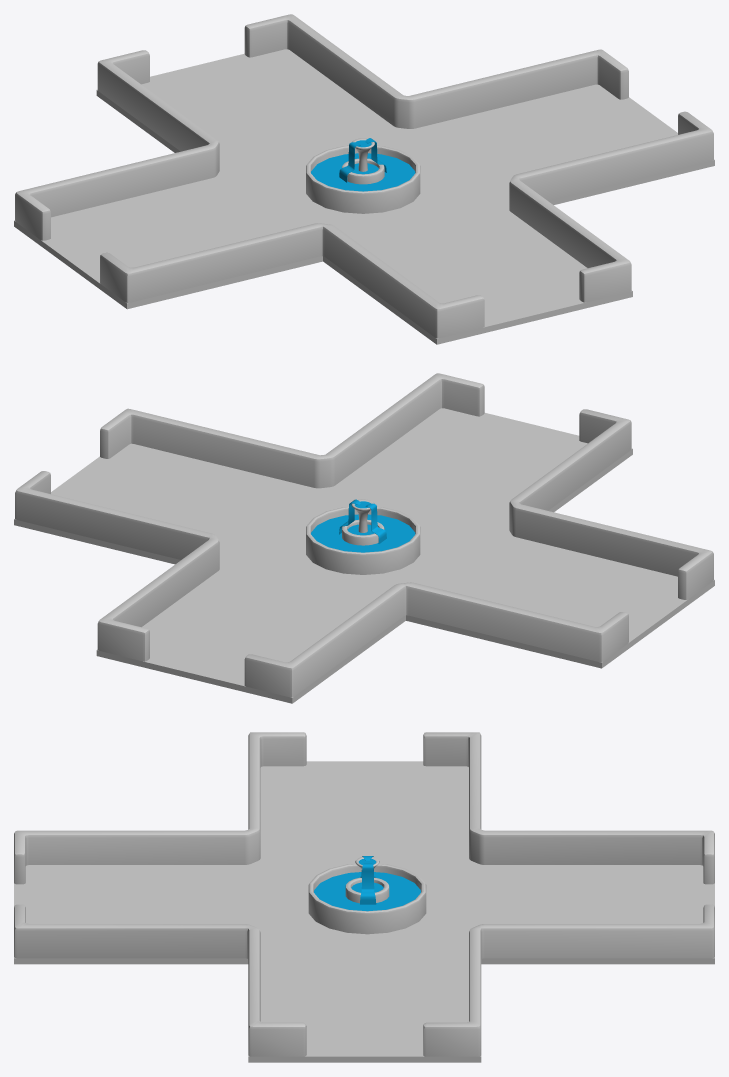
The model's file is parque.fbx.
3 renders of one model, top to bottom at view 1: azimuth 30°, elevation 25°; view 2: azimuth 150°, elevation 25°; view 3: azimuth 270°, elevation 25°, orthographic. The views are drawn at different scales.
Parts seen in each view (by area): view 1: arbustos, fuente_3, agua; view 2: arbustos, fuente_3, agua; view 3: arbustos, fuente_3, agua.
Part boxes in pixels (left/top/right/bottom): arbustos: left=14, top=14, right=714, bottom=344; fuente_3: left=306, top=138, right=420, bottom=213; agua: left=311, top=138, right=415, bottom=191; arbustos: left=14, top=373, right=714, bottom=703; fuente_3: left=306, top=499, right=420, bottom=574; agua: left=311, top=499, right=415, bottom=552; arbustos: left=14, top=732, right=714, bottom=1062; fuente_3: left=308, top=857, right=426, bottom=934; agua: left=314, top=856, right=420, bottom=911.
Bounding box in the file's own units: 300 × 25.88 × 301.
